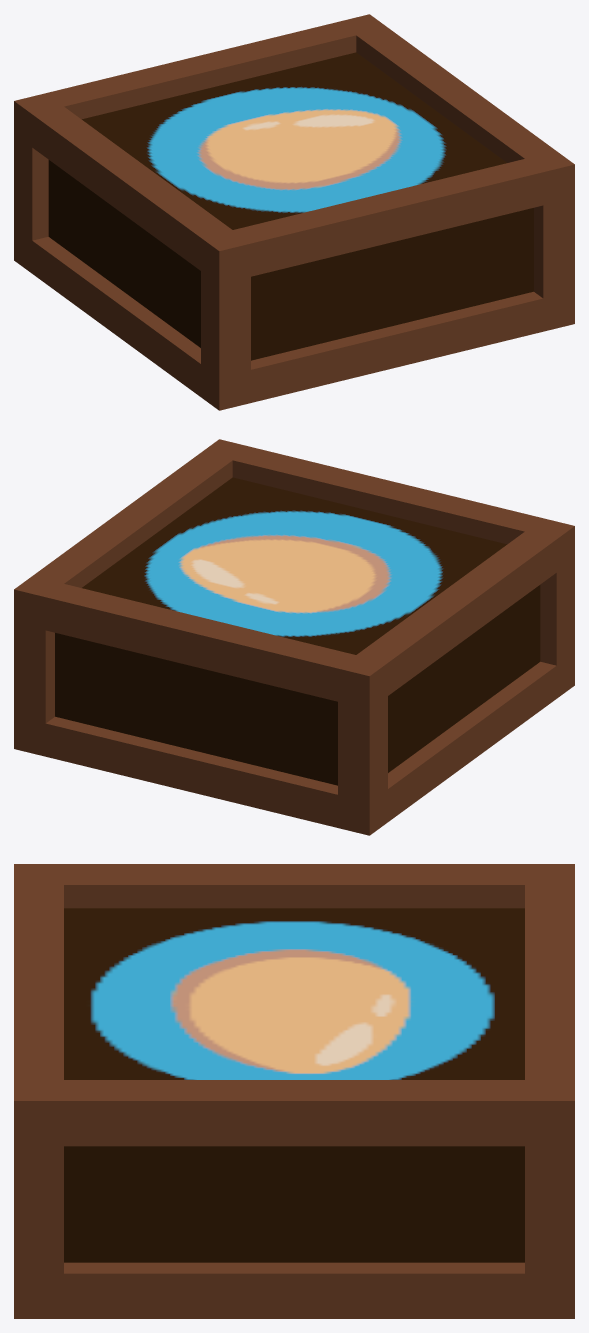
File: CajaHuevo.fbx
3 views of the same model, one above another, from view 1: azimuth 30°, elevation 25°; view 2: azimuth 150°, elevation 25°; view 3: azimuth 270°, elevation 25° (orthographic). The views are drawn at different scales.
Visible parts, largest first — view 1: CajaObjetos.003; view 2: CajaObjetos.003; view 3: CajaObjetos.003.
Boxes of the visible parts, x1=… form: CajaObjetos.003: x1=14, y1=14, x2=574, y2=410; CajaObjetos.003: x1=14, y1=439, x2=574, y2=835; CajaObjetos.003: x1=14, y1=864, x2=574, y2=1318.
Size of the model in its own units: 350 by 150 by 350.
Materials: 3 (2 with a texture image).
